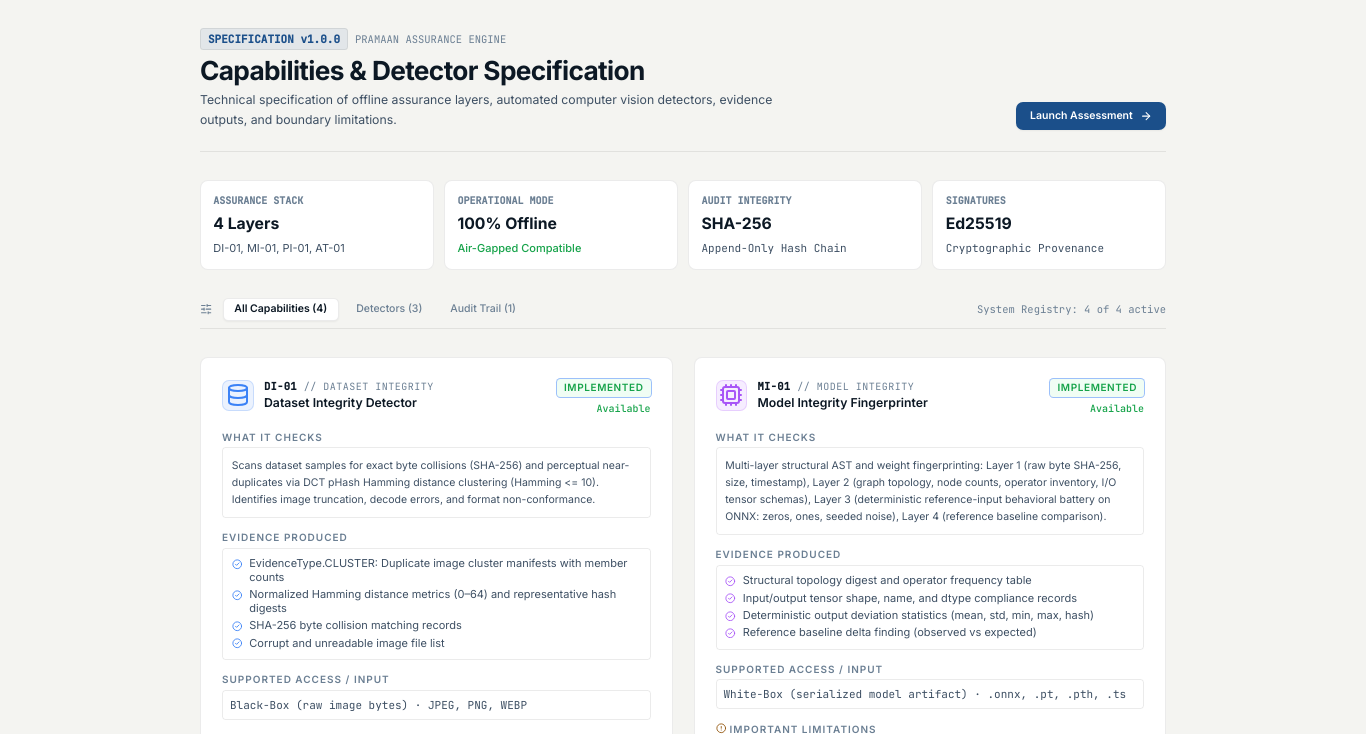
Scenario: PRAMAAN v1 Full Browser & DOM E2E QA › verifies Capabilities page, layer specifications, and interactive category filters
The image size is (1366, 734).
Expected: the heading "Capabilities & Detector Specification" is shown, [200, 55, 645, 86]
Expected: the text "4 Layers" is shown, [213, 214, 279, 233]
// Filter by Detectors
Click the button "Detectors (3)" at (389, 309), box [346, 299, 433, 320]
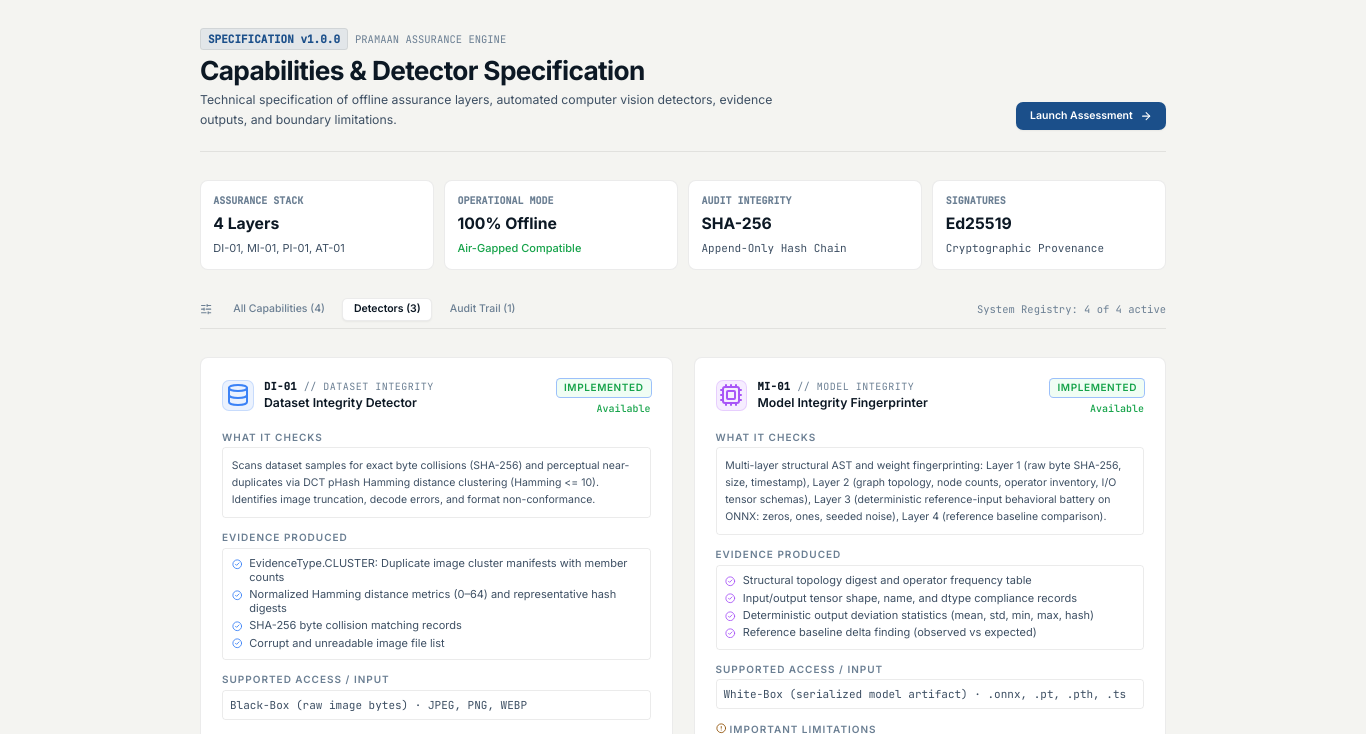
Expected: the text "AT-01: Tamper-Evident Audit Trail" is not shown
// Filter by Audit Trail
Click the button "Audit Trail (1)" at (483, 309), box [439, 299, 526, 320]
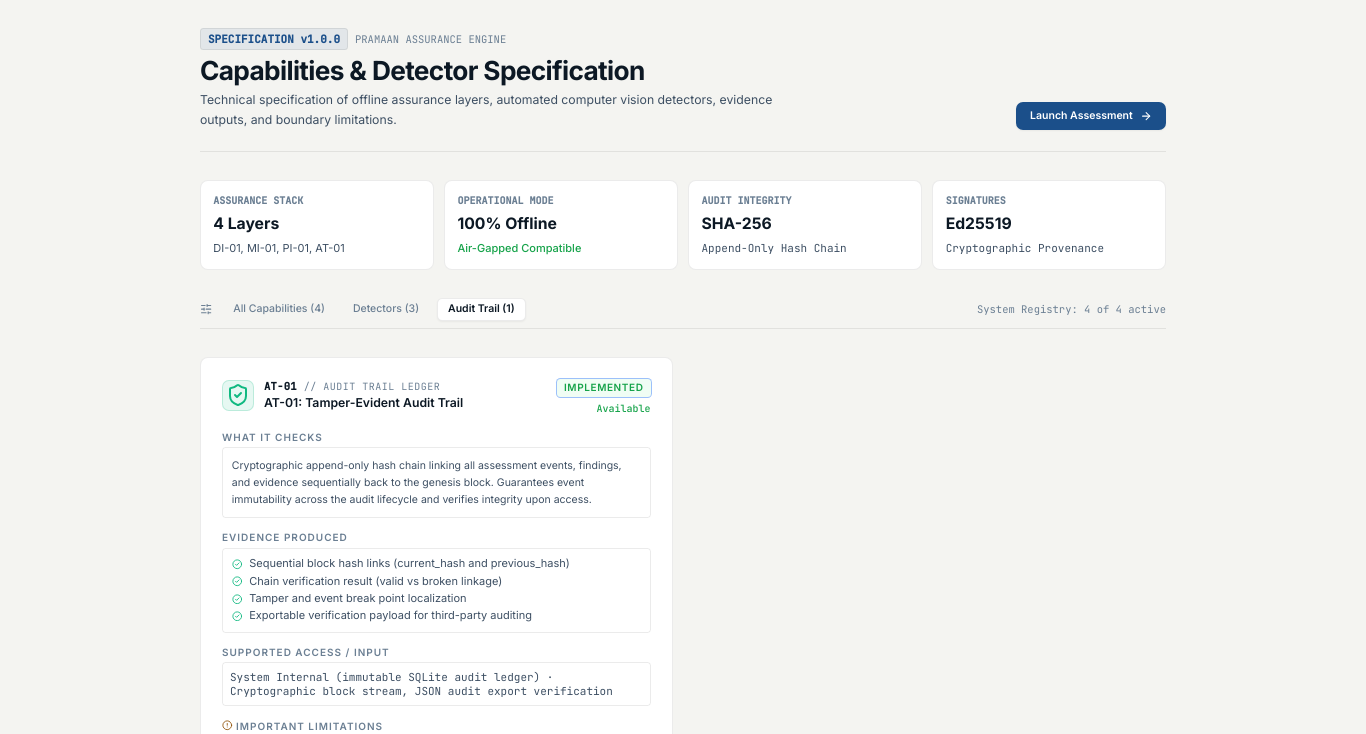
Expected: the heading "AT-01: Tamper-Evident Audit Trail" is shown, [264, 395, 463, 412]
Expected: the heading "Dataset Integrity Detector" is gone
// Reset to All
Click the button "All Capabilities (4)" at (279, 309), box [223, 299, 336, 320]
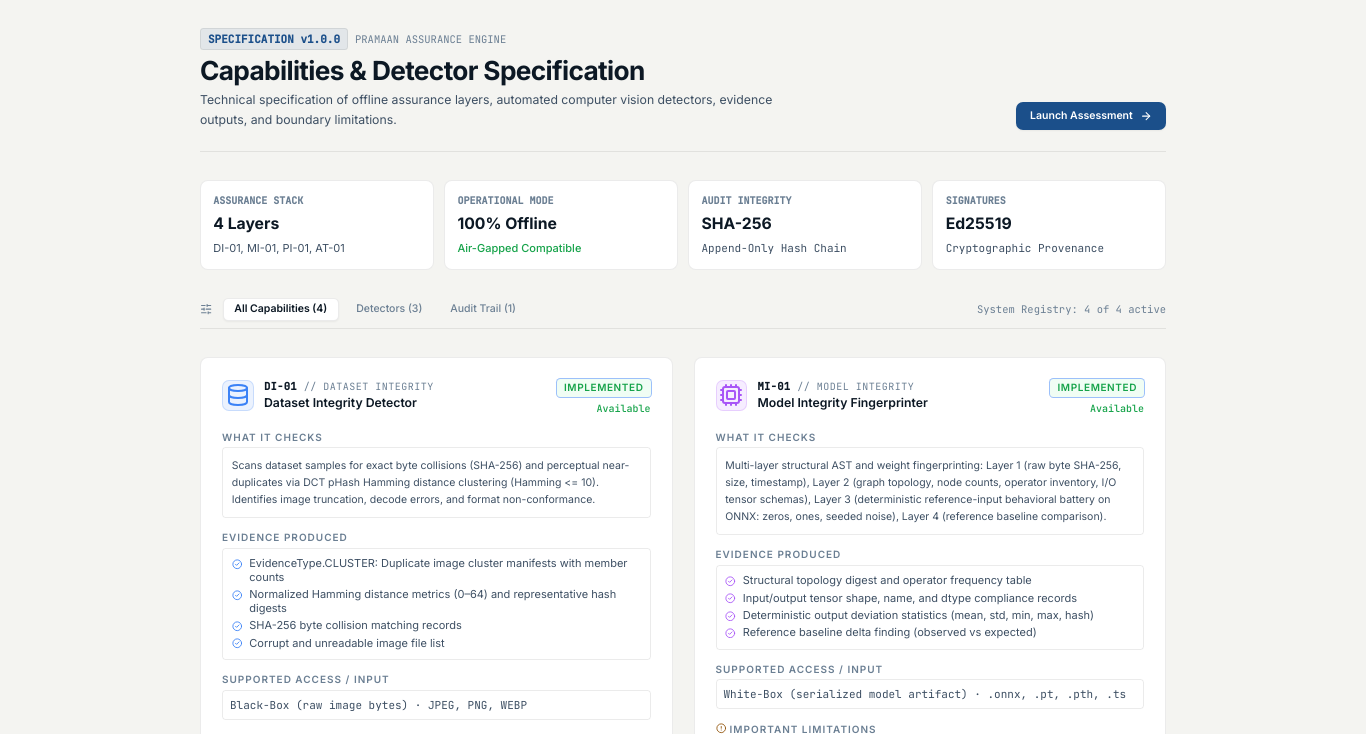
Expected: the heading "Dataset Integrity Detector" is shown, [264, 395, 434, 412]
